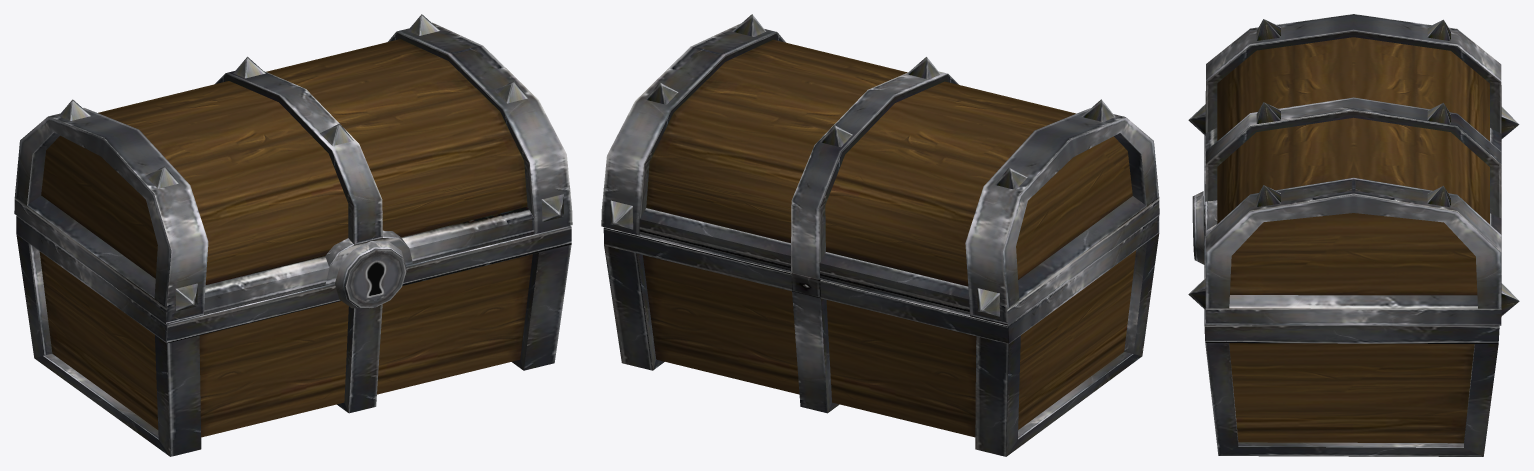
The picture shows the model from 3 angles, left to right: view 1: azimuth 30°, elevation 25°; view 2: azimuth 150°, elevation 25°; view 3: azimuth 270°, elevation 25°; orthographic projection. The views are drawn at different scales.
Visible parts, largest first — view 1: ChestTop, ChestBottom; view 2: ChestTop, ChestBottom; view 3: ChestTop, ChestBottom.
Part boxes in pixels (x1=…): ChestTop: x1=14, y1=14, x2=572, y2=324; ChestBottom: x1=16, y1=215, x2=571, y2=456; ChestTop: x1=601, y1=14, x2=1159, y2=325; ChestBottom: x1=603, y1=214, x2=1159, y2=456; ChestTop: x1=1188, y1=14, x2=1519, y2=325; ChestBottom: x1=1204, y1=135, x2=1499, y2=456.
Size of the model in its own units: 1.07 by 0.6833 by 0.778.
Materials: 1 (1 with a texture image).
